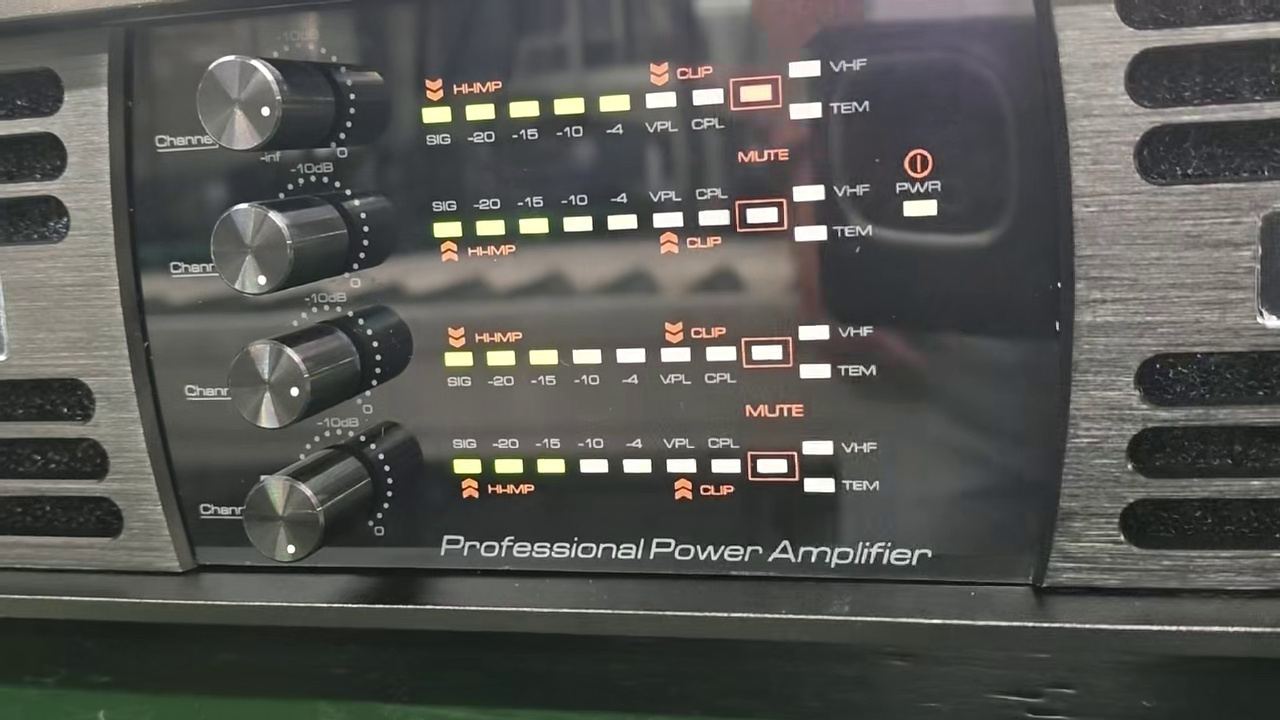FP_CPL: (690, 83, 732, 139), (692, 182, 733, 231), (705, 431, 743, 479), (701, 343, 740, 389)
FP_PWR: (888, 177, 949, 223)
FP_PWR_area: (883, 136, 954, 231)
FP_SIG_area: (412, 49, 878, 149), (428, 177, 880, 267), (444, 429, 889, 505), (439, 317, 884, 387)
FP_VPL: (640, 86, 682, 140), (646, 180, 686, 230), (657, 342, 696, 387), (662, 431, 699, 477)
